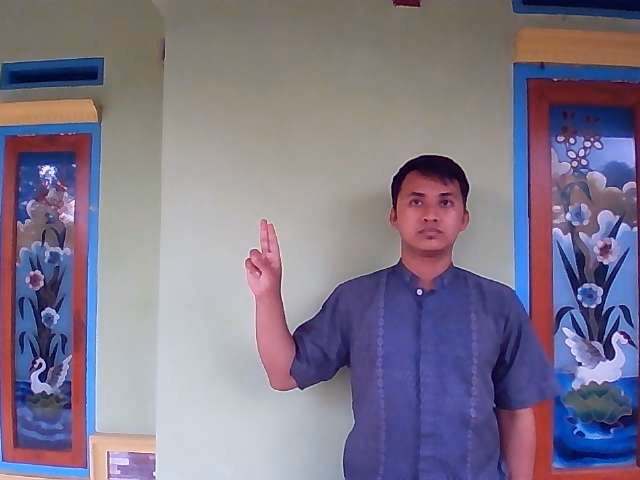U: (240, 215, 286, 301)
